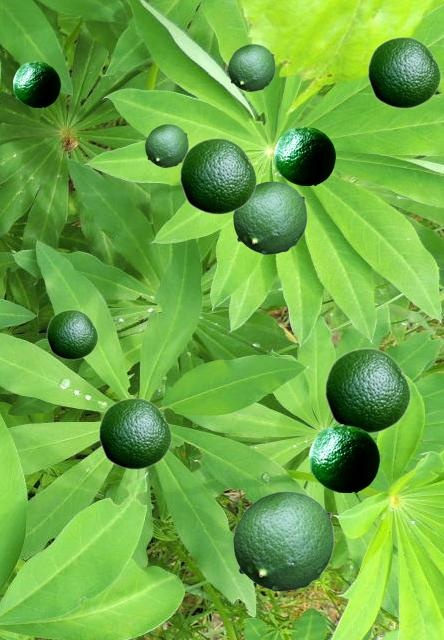calamansi: (233, 491, 333, 590), (324, 347, 410, 433), (179, 137, 256, 214), (367, 36, 440, 108), (233, 181, 306, 253), (98, 397, 171, 469), (309, 424, 378, 491), (274, 126, 334, 184), (46, 309, 97, 359), (228, 44, 274, 90), (13, 61, 59, 106), (145, 124, 187, 166)
